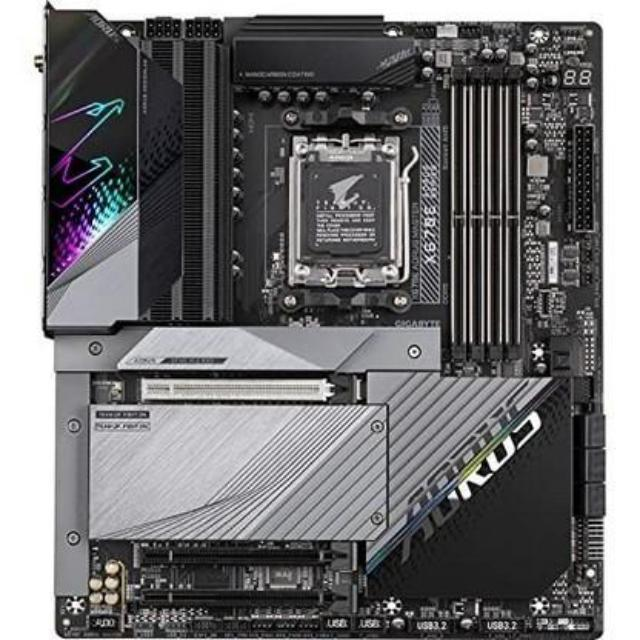Mainboard: (21, 3, 608, 640)
